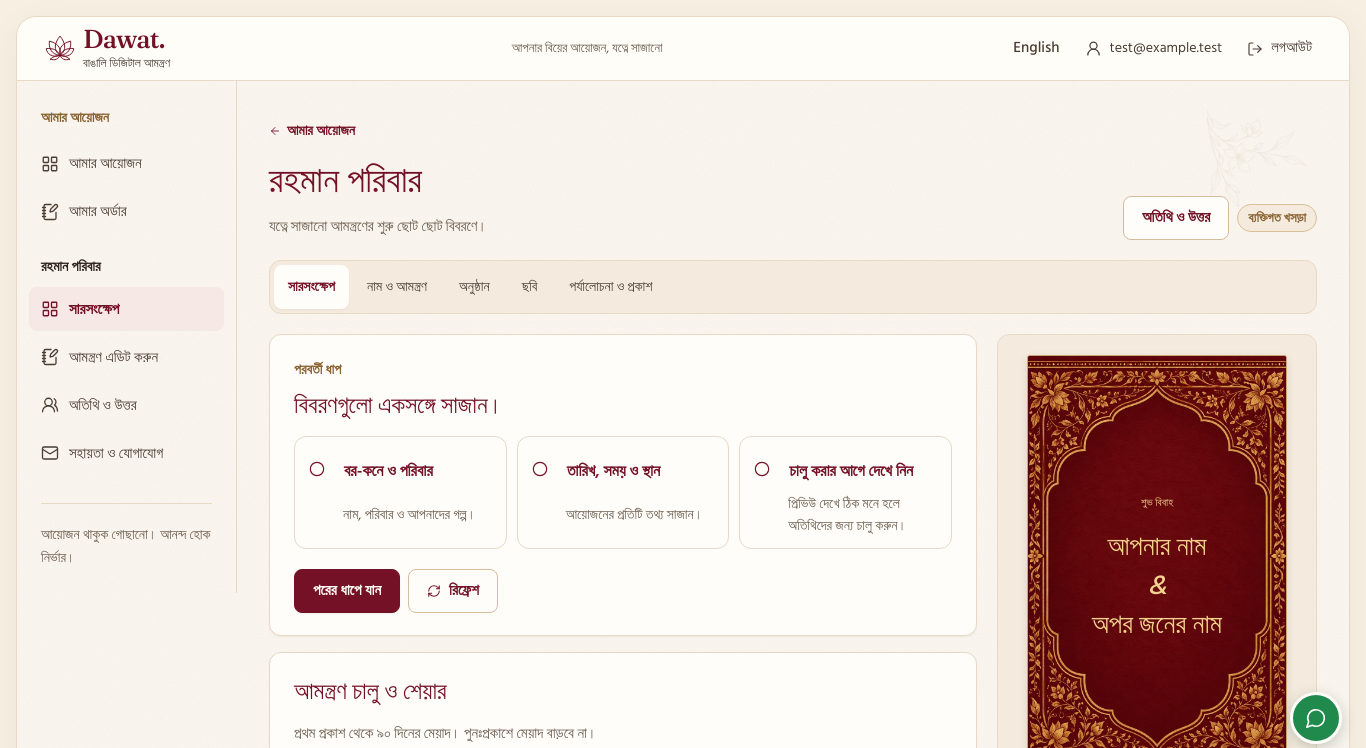
it: switches between the three workspace destinations without dropping unsaved editor text
Click the button "নাম ও আমন্ত্রণ" at (397, 287), box [353, 265, 441, 309]
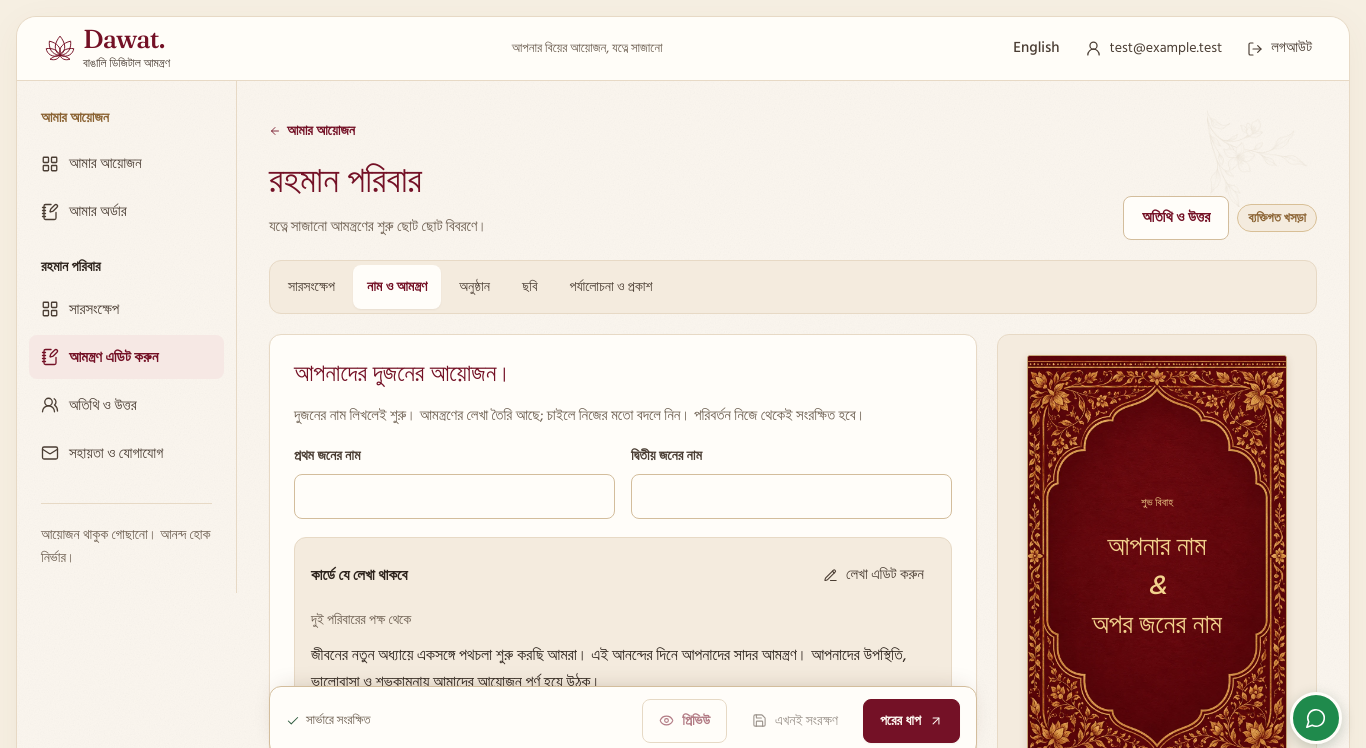
Type "অক্ষত নাম" into the field labelled "প্রথম জনের নাম" at (454, 496), box [294, 474, 615, 519]
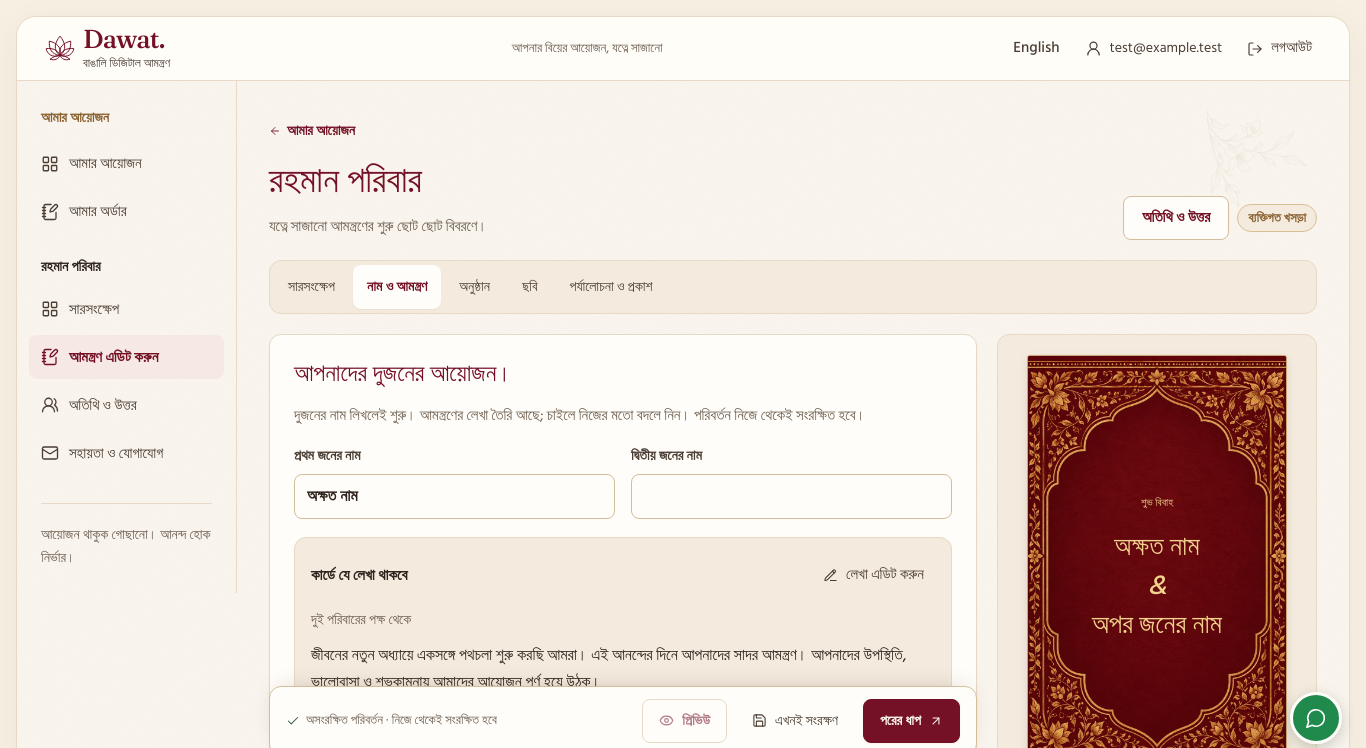
Click the link "সারসংক্ষেপ" at (80, 309), box [41, 297, 119, 322]
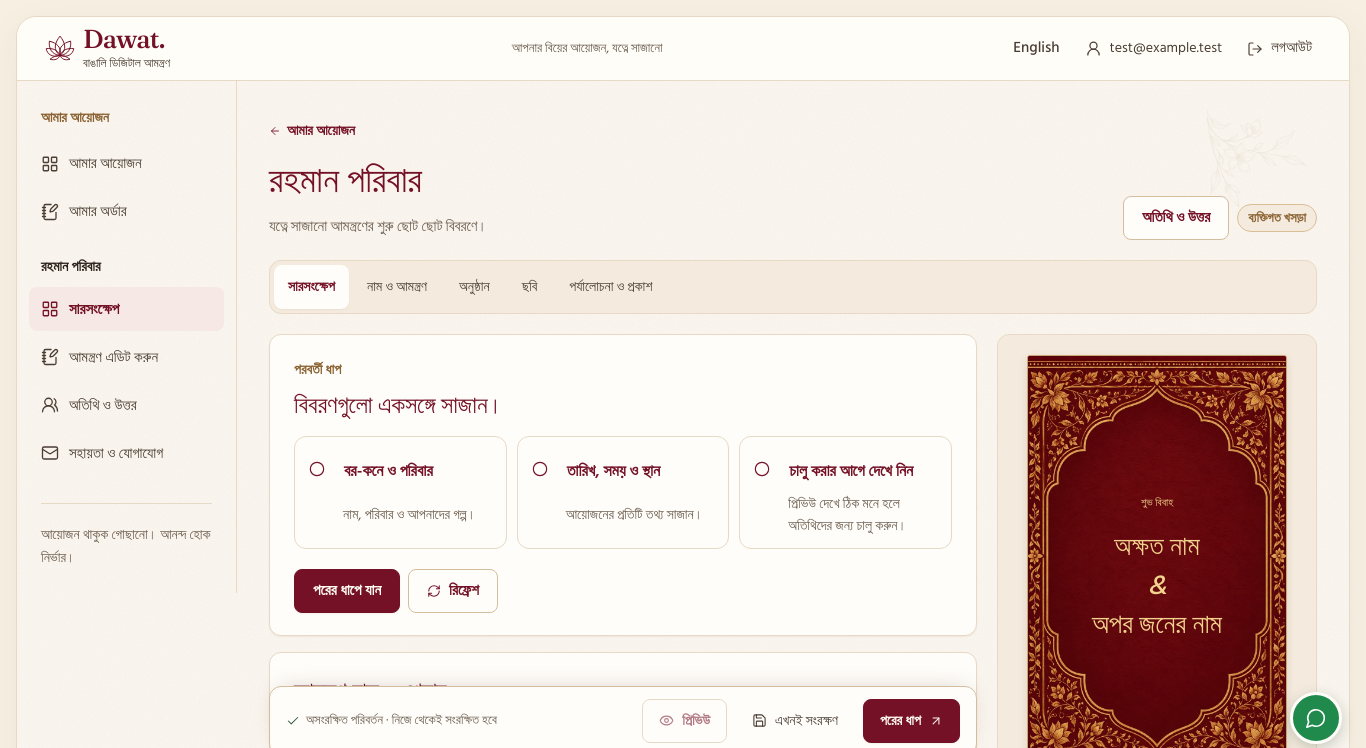
Click the link "আমন্ত্রণ এডিট করুন" at (100, 357), box [41, 345, 158, 370]
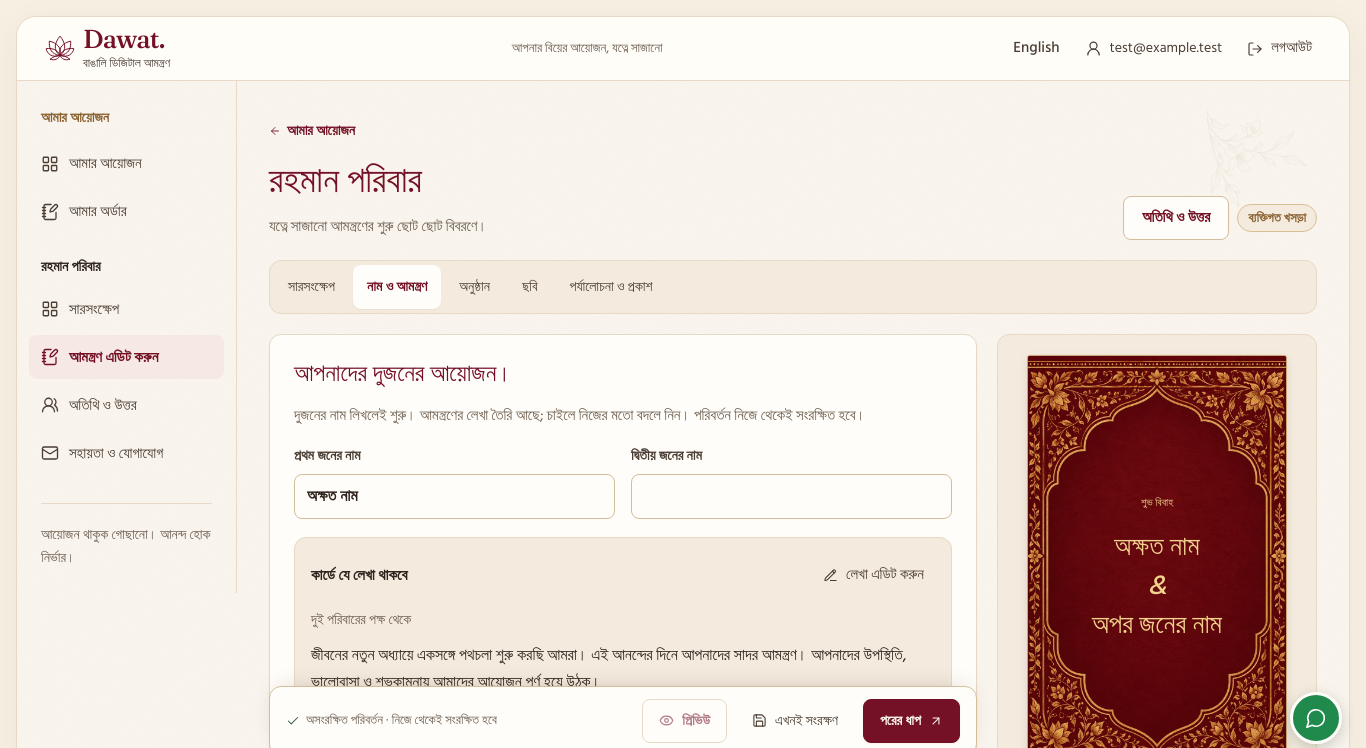
Result: the field labelled "প্রথম জনের নাম" holds "অক্ষত নাম" at [294, 474, 615, 519]
